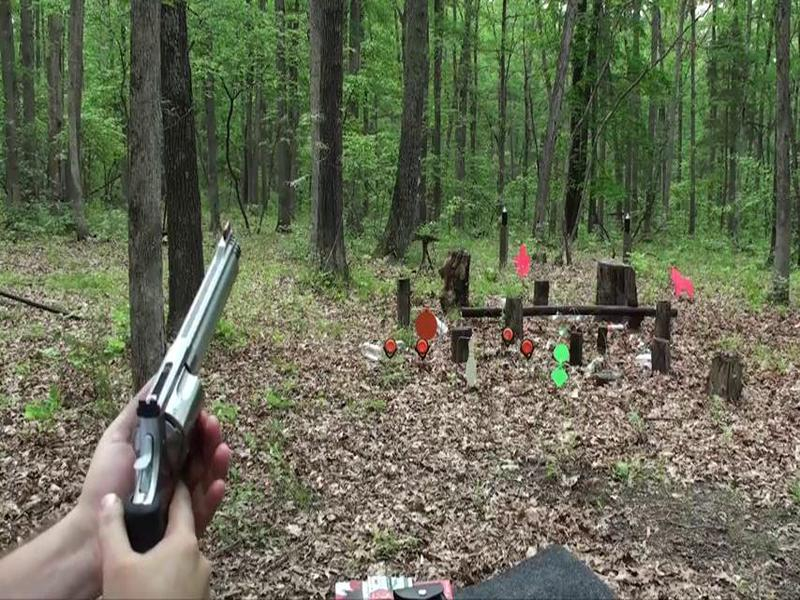Revolver: (117, 194, 268, 571)
